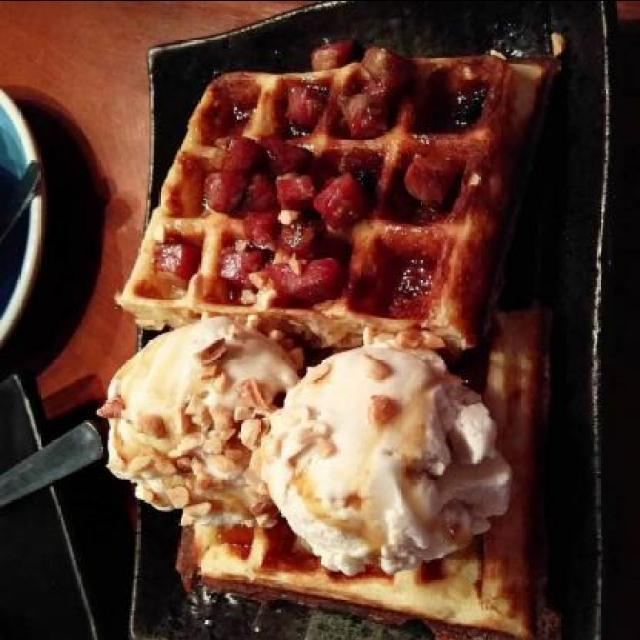Waffle: (116, 60, 558, 354), (174, 306, 552, 640)
